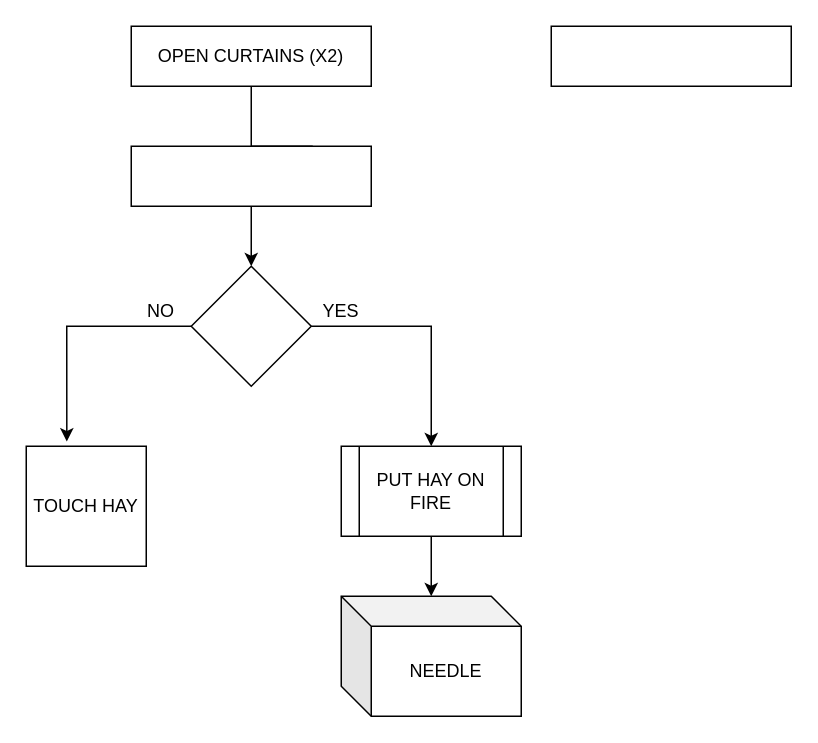
This 818x743 diagram has some shape labels left out. Each missing label, with the centre of its shape:
"MATCHES" belongs at [250,325].
"OPEN WINDOW" belongs at [250,175].
